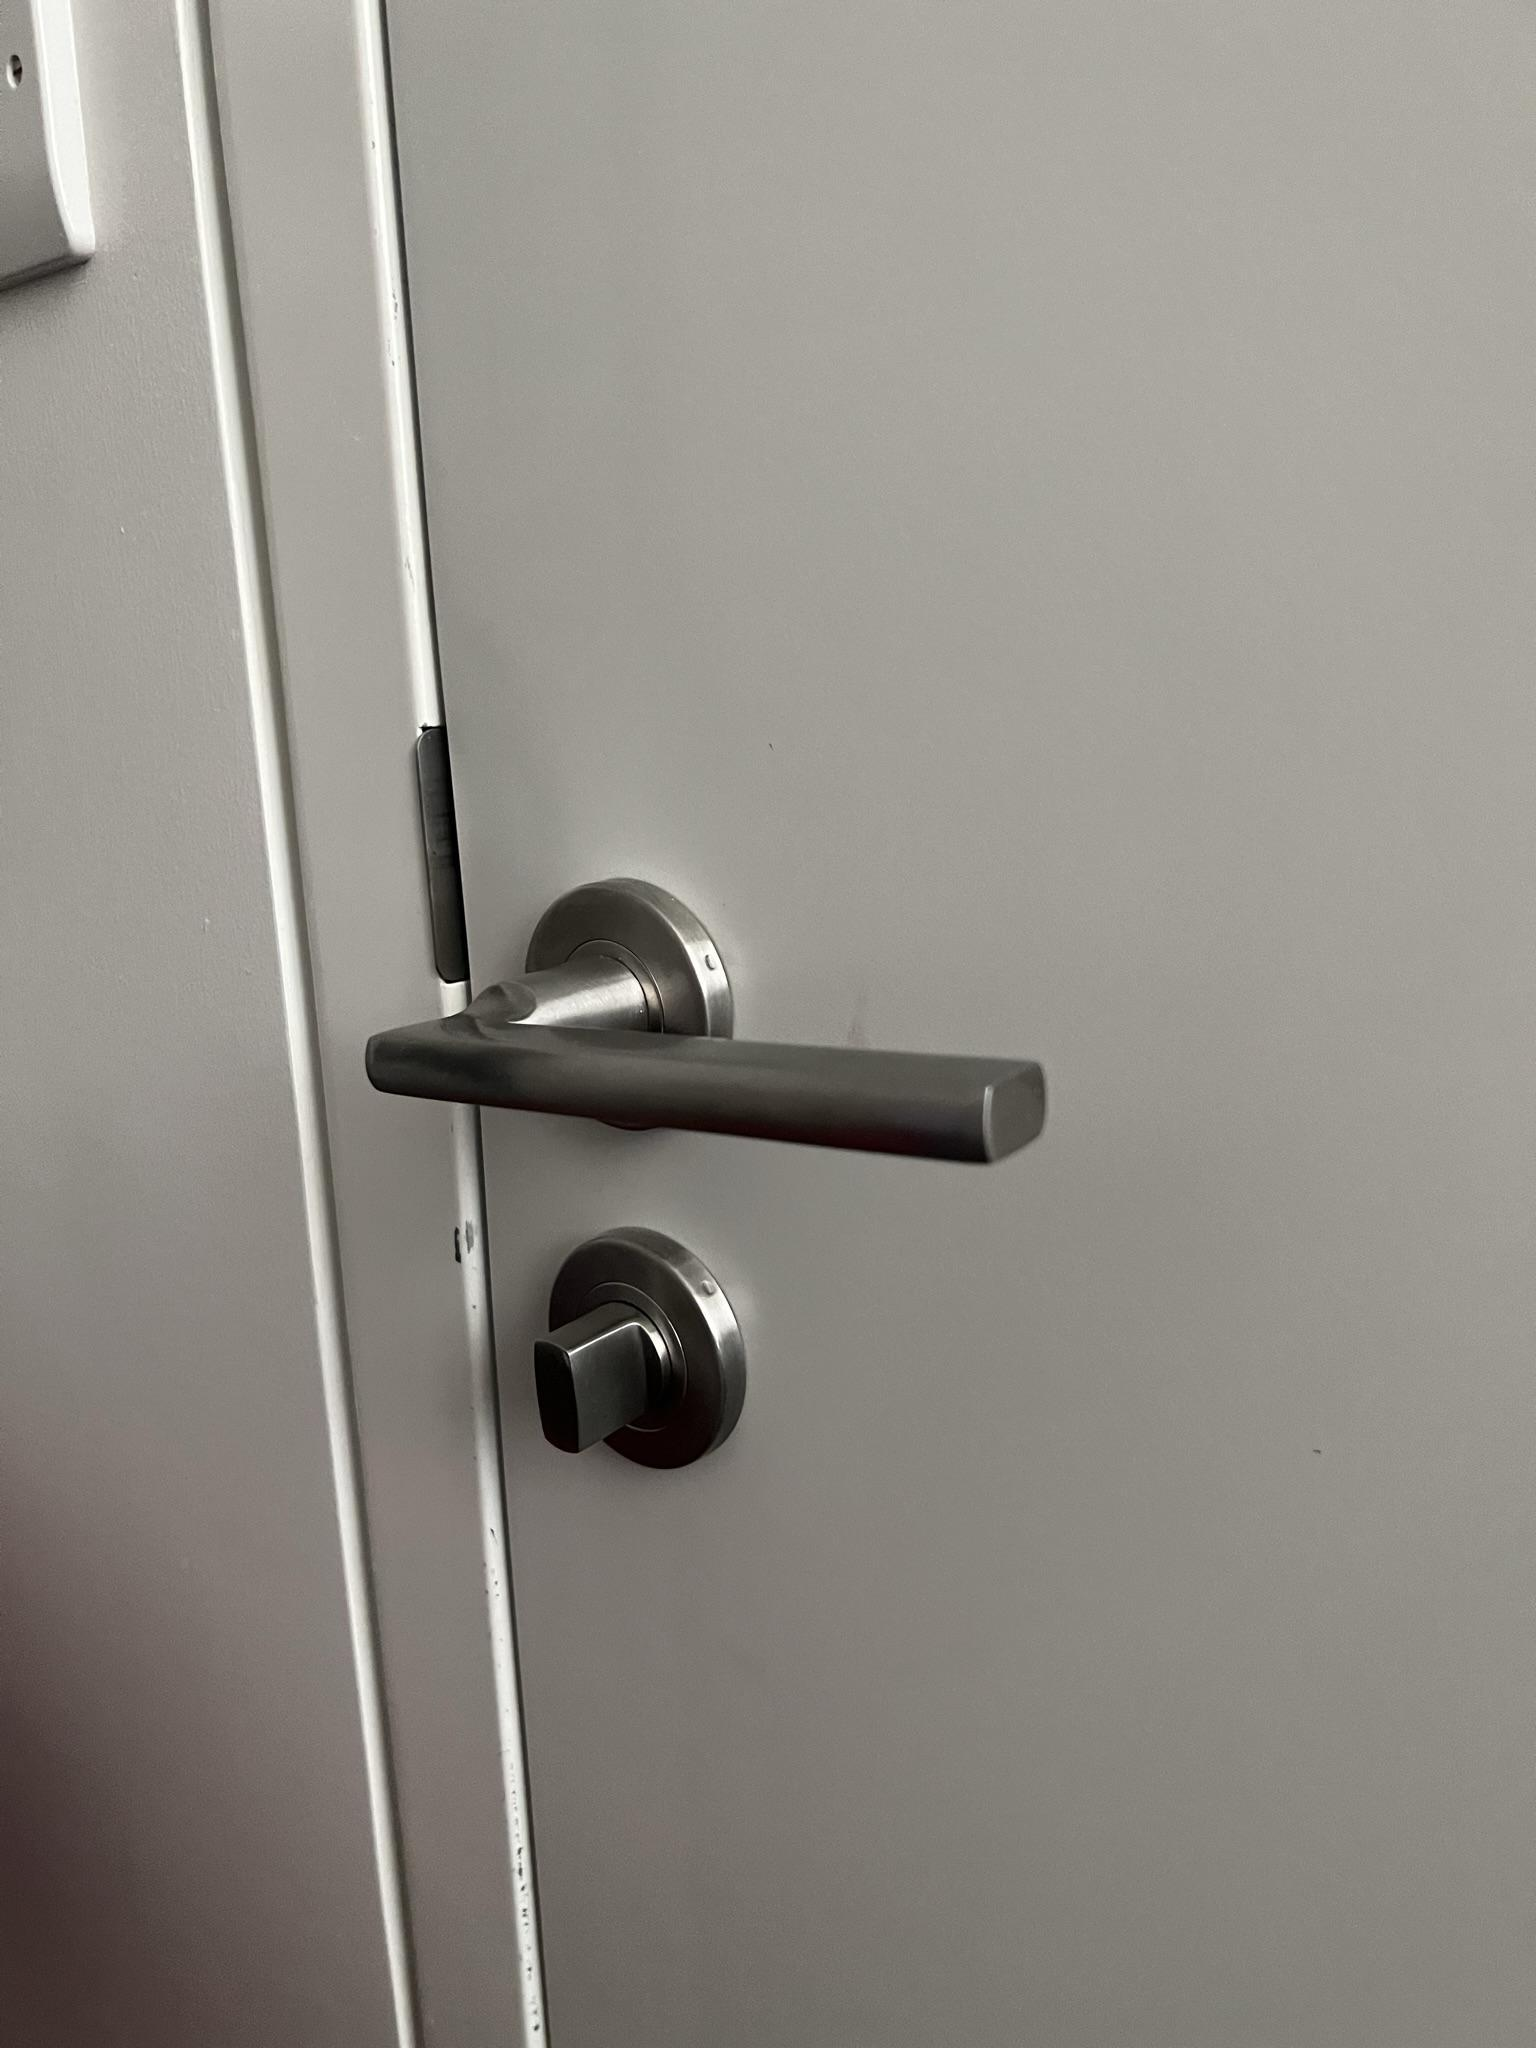handle: (361, 835, 1081, 1474)
